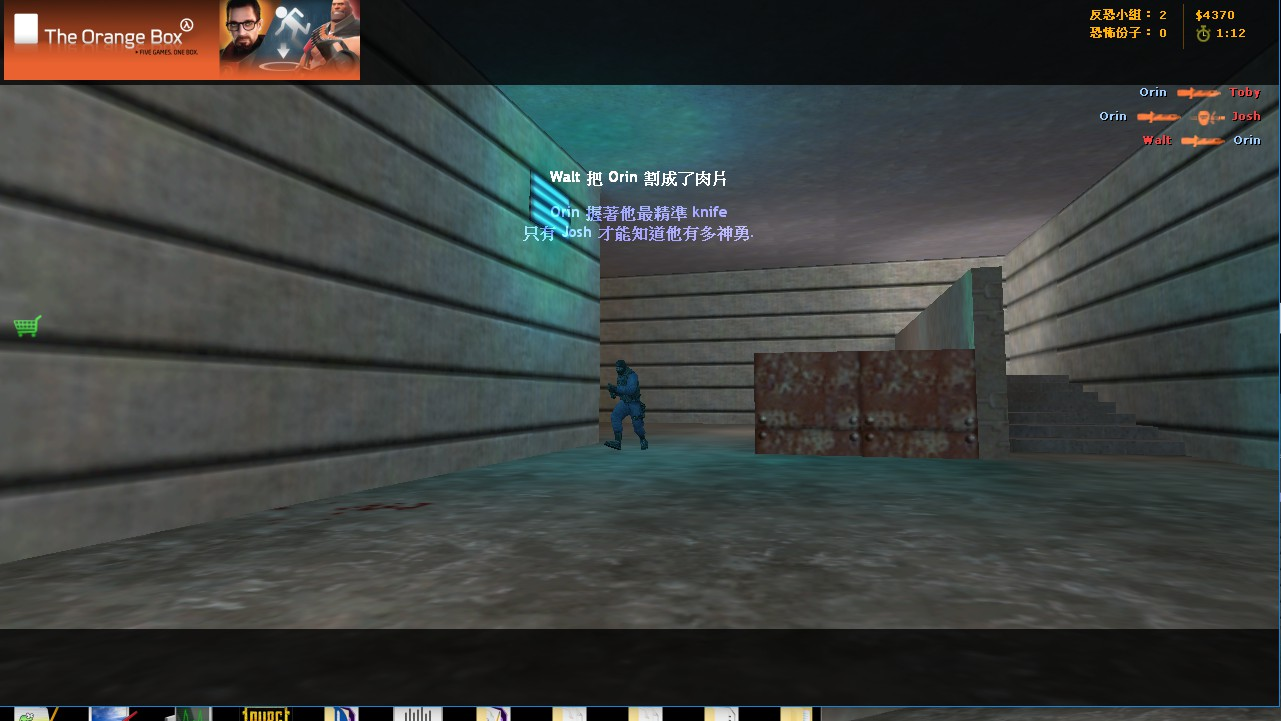person: (606, 358, 653, 454)
